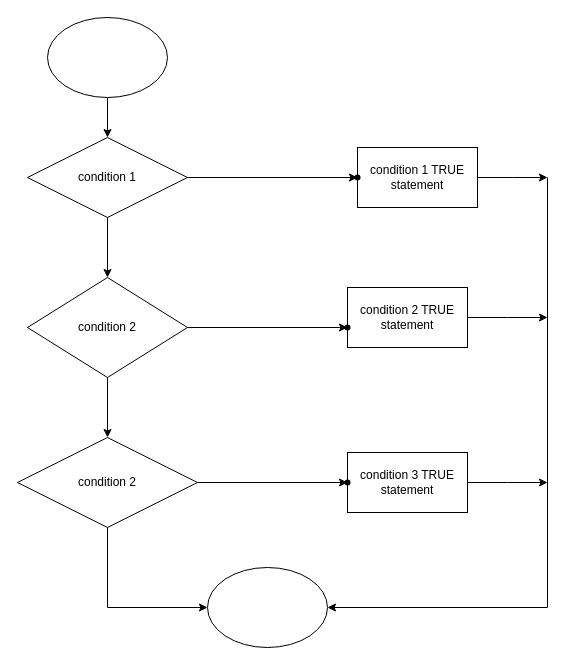
Some shapes in this 573 by 665 pixel diagram are drawn without their labels. The centre of each missing label's shape, as x and y in pixels:
END: pixel 267 607
START: pixel 107 57
